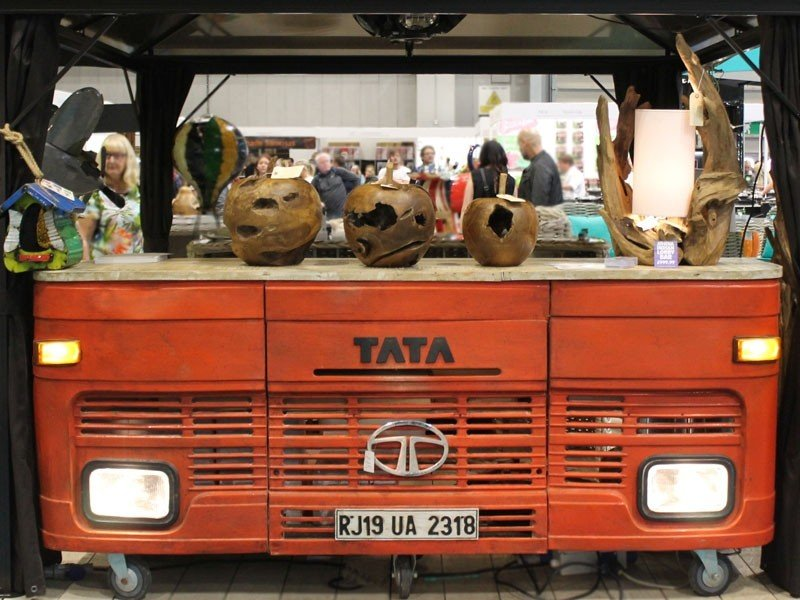numberplate: (334, 507, 480, 543)
